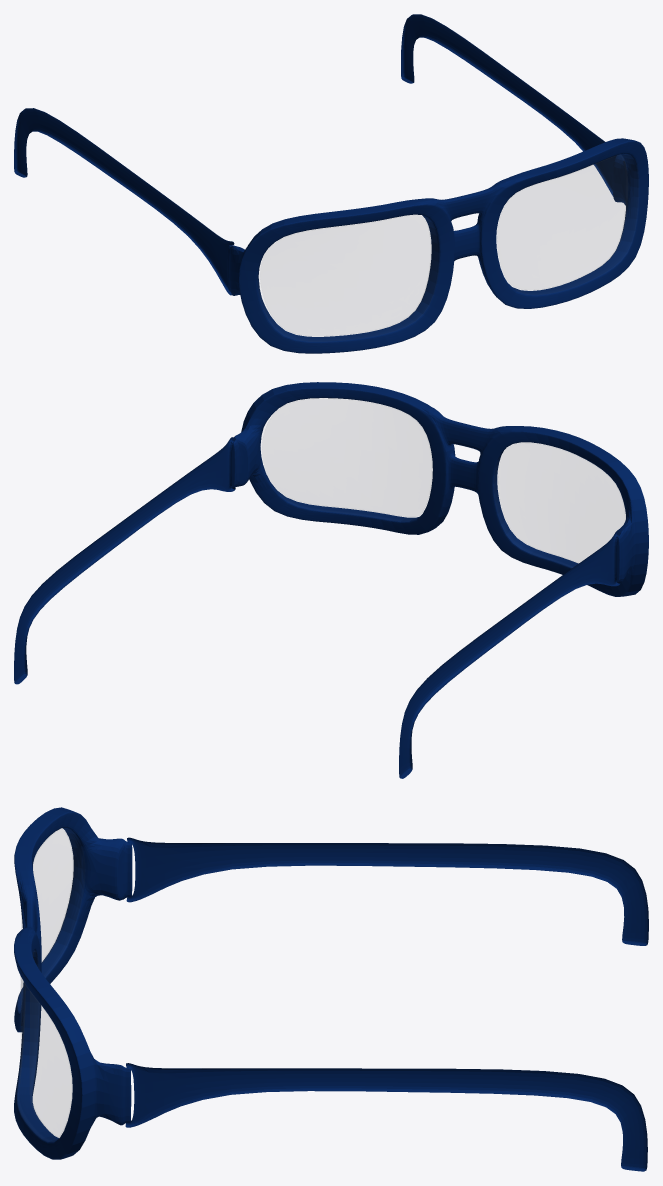
Rendered from glass_blue.obj.
3 renders of one model, top to bottom at view 1: azimuth 30°, elevation 25°; view 2: azimuth 150°, elevation 25°; view 3: azimuth 270°, elevation 25°, orthographic. The views are drawn at different scales.
Parts seen in each view (by area): view 1: Right_Cube.004; view 2: Right_Cube.004; view 3: Right_Cube.004.
Boxes of the visible parts, x1=… form: Right_Cube.004: x1=14, y1=14, x2=648, y2=353; Right_Cube.004: x1=14, y1=382, x2=648, y2=778; Right_Cube.004: x1=14, y1=807, x2=648, y2=1171.
Size of the model in its own units: 0.0577 by 0.0184 by 0.0648.
